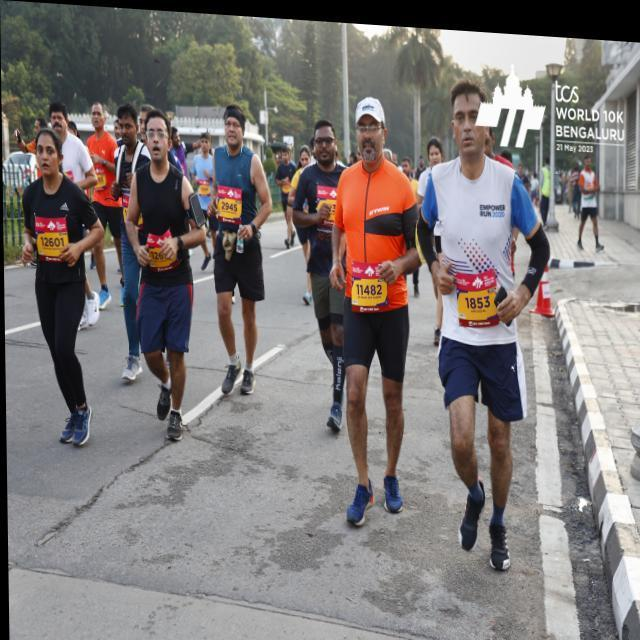dorsal: (453, 263, 500, 322), (350, 250, 390, 312), (34, 212, 68, 264), (216, 180, 243, 227)
